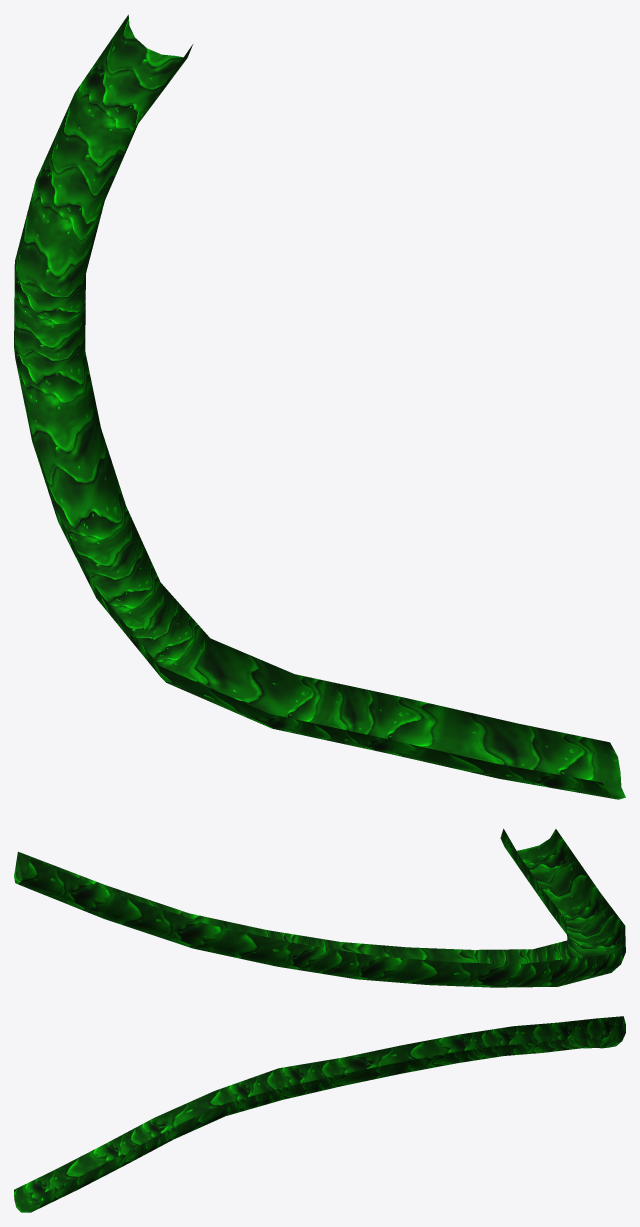
Rendered from MIRKWOOD_OBJECT01.fbx.
3 renders of one model, top to bottom at view 1: azimuth 30°, elevation 25°; view 2: azimuth 150°, elevation 25°; view 3: azimuth 270°, elevation 25°, orthographic. The views are drawn at different scales.
Parts seen in each view (by area): view 1: MIRKWOOD_OBJECT01; view 2: MIRKWOOD_OBJECT01; view 3: MIRKWOOD_OBJECT01.
Boxes of the visible parts, x1,y1,x2,y2 form: MIRKWOOD_OBJECT01: (14, 14, 625, 799); MIRKWOOD_OBJECT01: (14, 828, 625, 987); MIRKWOOD_OBJECT01: (14, 1016, 625, 1212).
Size of the model in its own units: 371056 by 346308 by 920177.
1 material, 1 textured.
